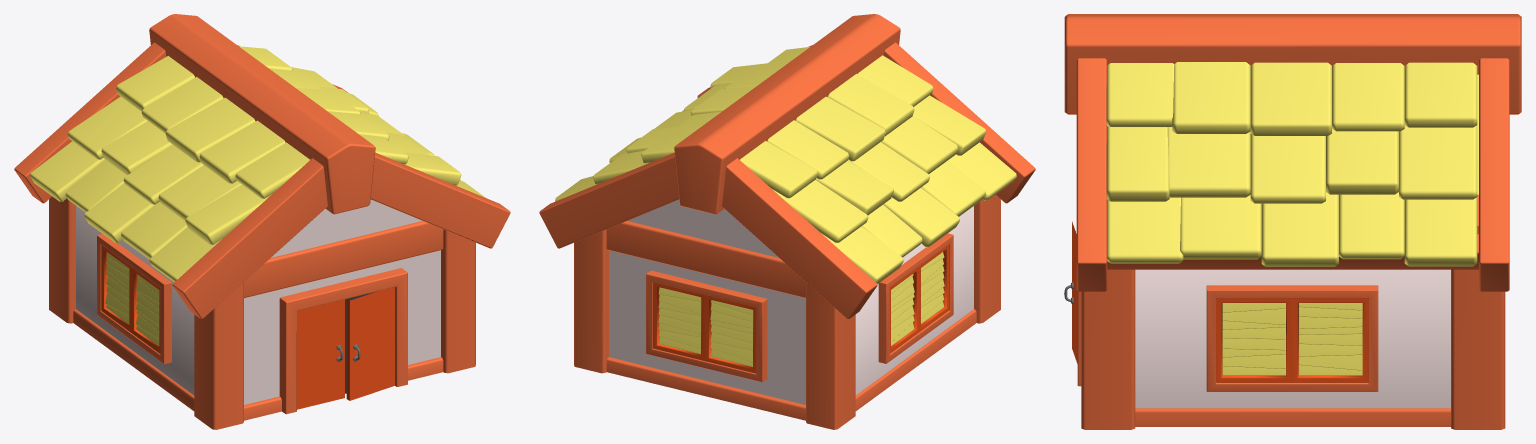
File: Farm_5_Cow_House_1.glb
3 renders of one model, left to right at view 1: azimuth 30°, elevation 25°; view 2: azimuth 150°, elevation 25°; view 3: azimuth 270°, elevation 25°, orthographic. The views are drawn at different scales.
Parts seen in each view (by area): view 1: Farm_5_Cow_House_1; view 2: Farm_5_Cow_House_1; view 3: Farm_5_Cow_House_1.
Part boxes in pixels (left/top/right/bottom): Farm_5_Cow_House_1: left=14, top=14, right=510, bottom=429; Farm_5_Cow_House_1: left=539, top=14, right=1035, bottom=429; Farm_5_Cow_House_1: left=1064, top=14, right=1521, bottom=429.
Size of the model in its own units: 7.66 by 5.78 by 7.26.
Materials: 1 (1 with a texture image).
